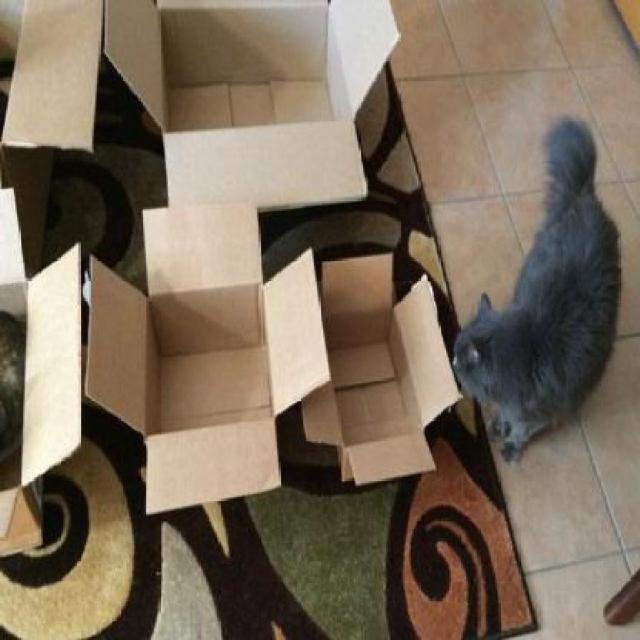box: (103, 0, 394, 202), (96, 231, 308, 467), (300, 273, 438, 479)
